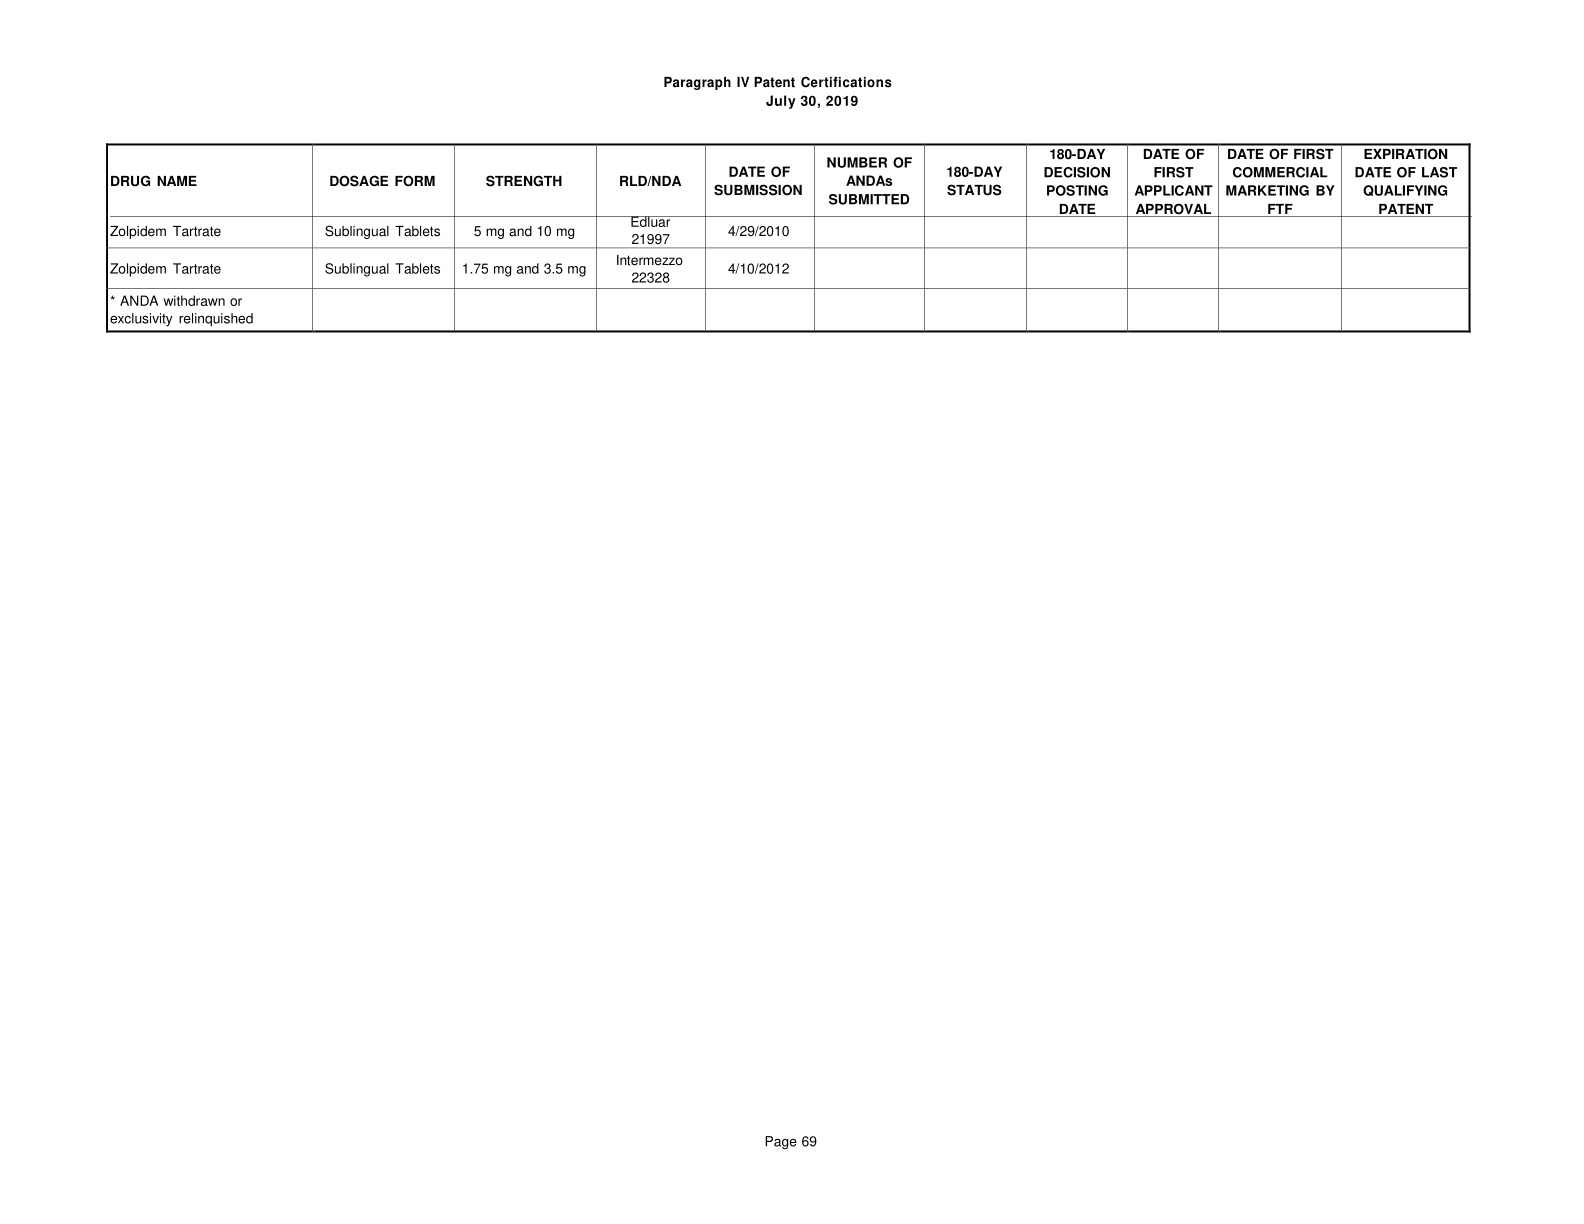full_lined: (105, 143, 1471, 333)
